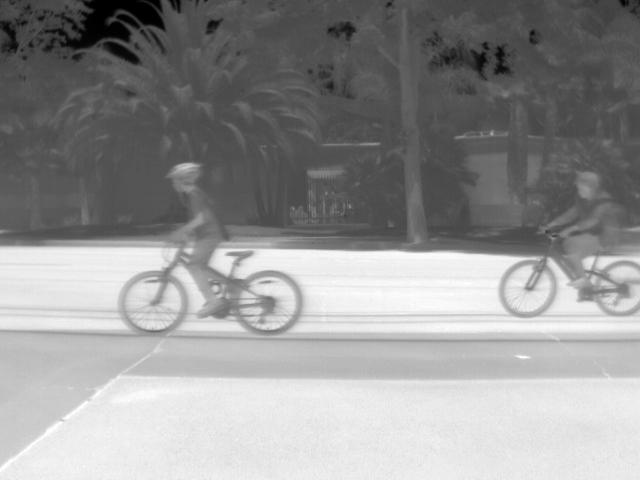person: (538, 170, 623, 301), (170, 160, 232, 314)
